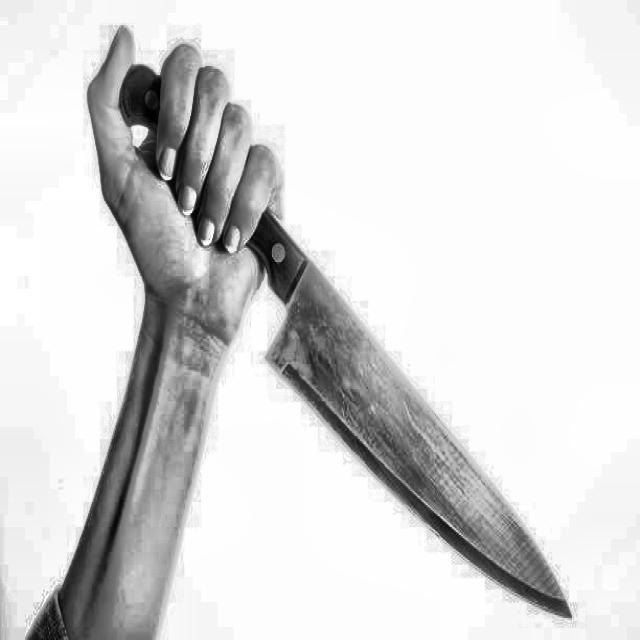pisau: (93, 49, 587, 631)
